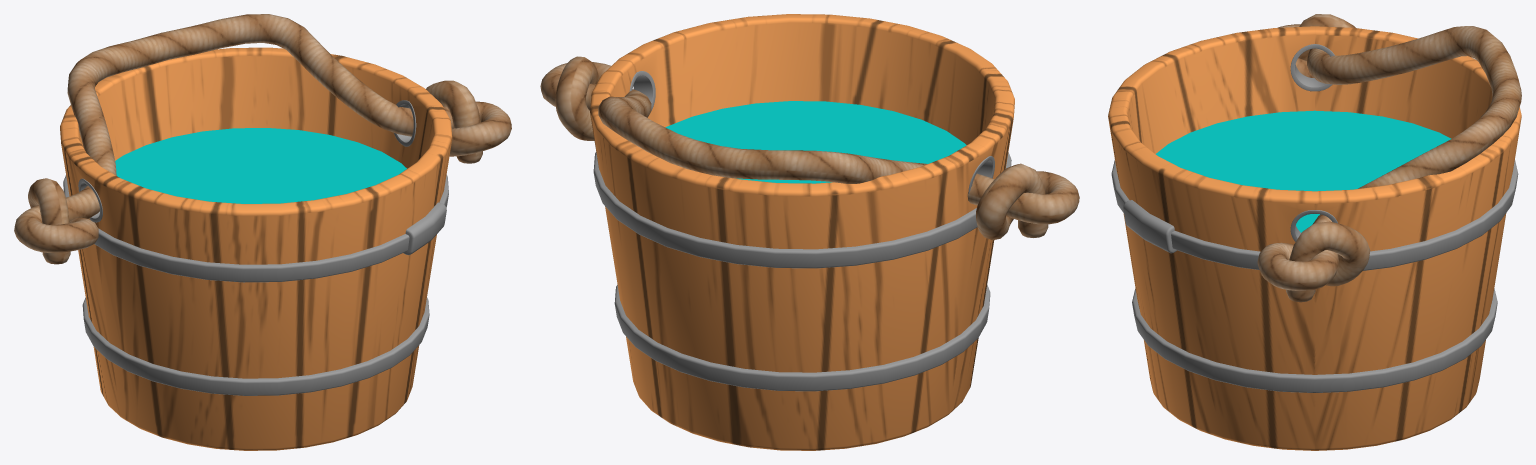
File: cartoon_wooden_bucket.fbx
3 renders of one model, left to right at view 1: azimuth 30°, elevation 25°; view 2: azimuth 150°, elevation 25°; view 3: azimuth 270°, elevation 25°, orthographic. The views are drawn at different scales.
Visible parts, largest first — view 1: cartoon wooden bucket; view 2: cartoon wooden bucket; view 3: cartoon wooden bucket.
Part boxes in pixels (x1,y1,x2,y2): cartoon wooden bucket: (14,14,511,450); cartoon wooden bucket: (540,14,1079,450); cartoon wooden bucket: (1108,14,1521,450).
Bounding box in the file's own units: 360 × 206 × 252.
